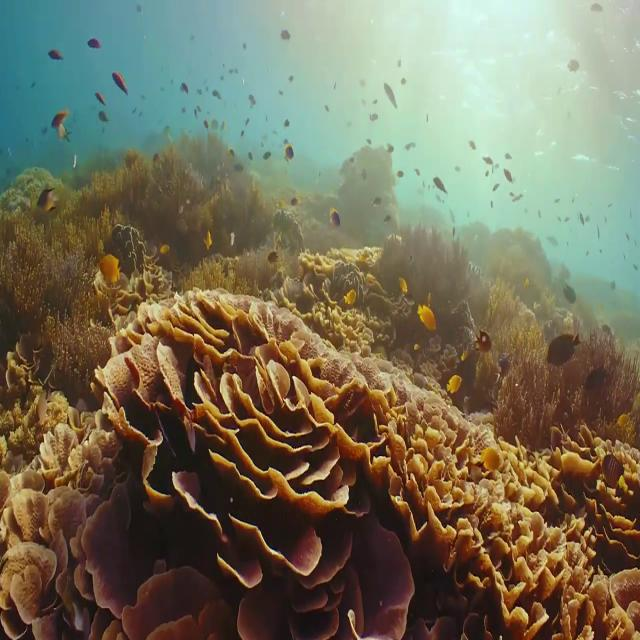fish: (545, 330, 580, 370), (416, 303, 435, 331), (446, 372, 466, 395)
